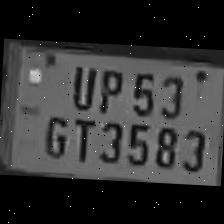3: (175, 123, 207, 173), (155, 68, 185, 118), (94, 114, 124, 164)
5: (124, 66, 158, 117), (121, 118, 150, 168)
8: (150, 120, 179, 170)
G: (37, 110, 70, 160)
P: (94, 63, 125, 113)
T: (68, 112, 95, 162)
U: (66, 60, 99, 110)
